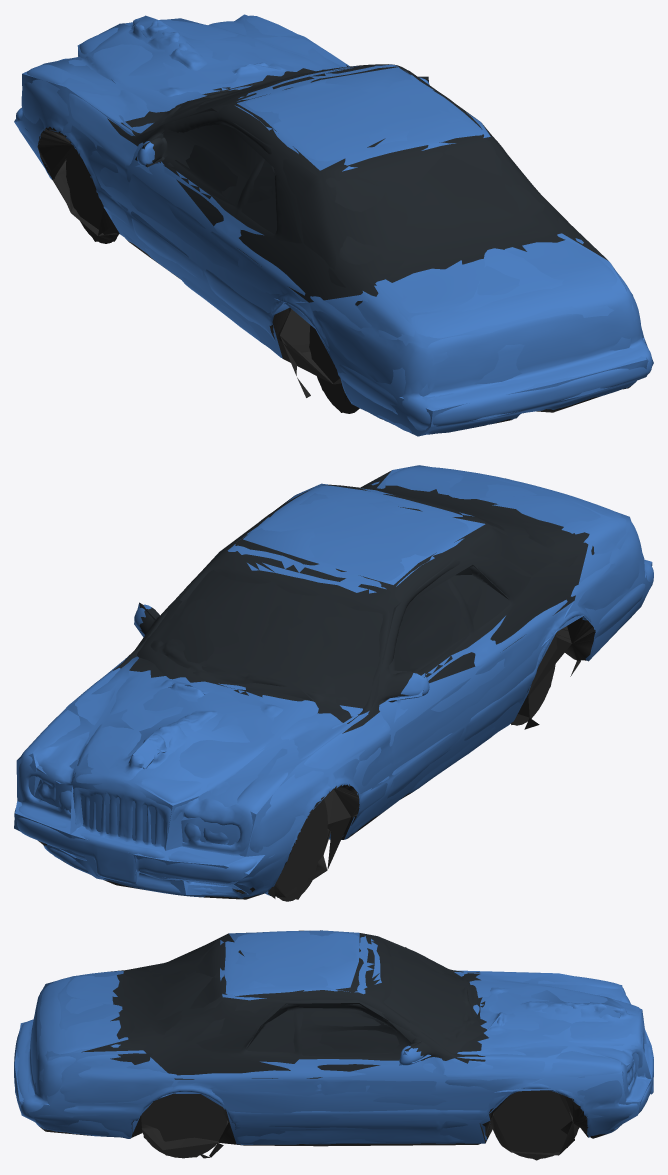
Rendered from bentley-azure.glb.
3 renders of one model, top to bottom at view 1: azimuth 30°, elevation 25°; view 2: azimuth 150°, elevation 25°; view 3: azimuth 270°, elevation 25°, orthographic. The views are drawn at different scales.
Visible parts, largest first — view 1: body, far; view 2: body, far; view 3: body, far.
Boxes of the visible parts, x1,y1,x2,y2 form: body: (16,15,652,434); far: (14,14,653,436); body: (14,466,653,901); far: (14,465,652,899); body: (14,930,653,1158); far: (14,930,653,1160).
Size of the model in its own units: 2.12 by 1.57 by 5.4.
